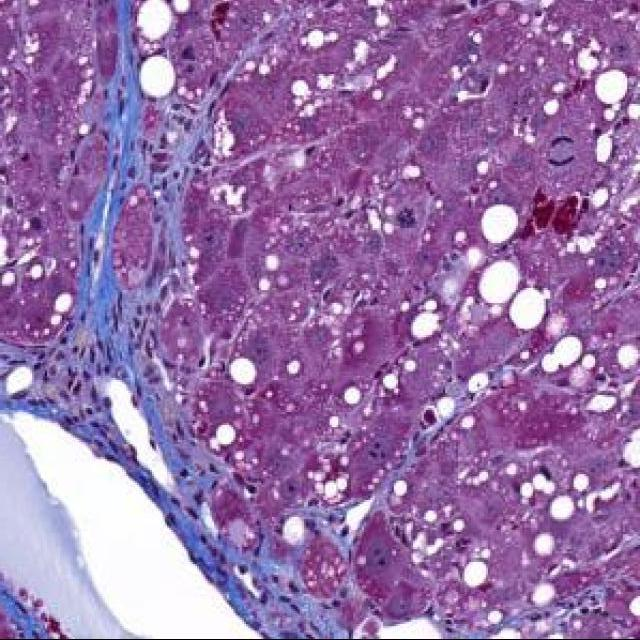fibrosis: (46, 0, 300, 640), (91, 219, 125, 312), (298, 590, 349, 640)
